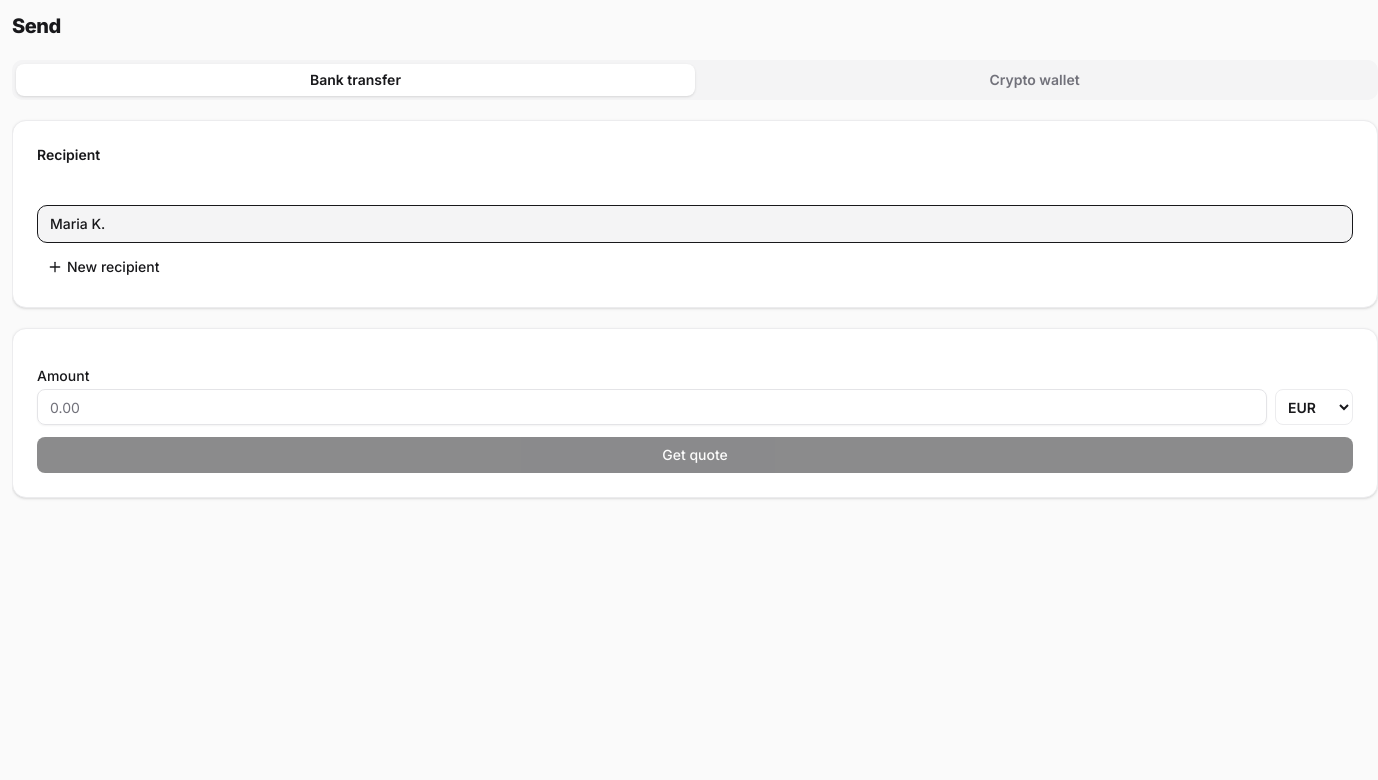
Test: Send › auto-selects the first recipient so quoting needs no extra click
The width and height of the screenshot is (1378, 780).
do NOT click a recipient — the first seeded one should already be selected
Type "50" into the field labelled "Amount" at (652, 407), box x1=37 y1=389 x2=1267 y2=425
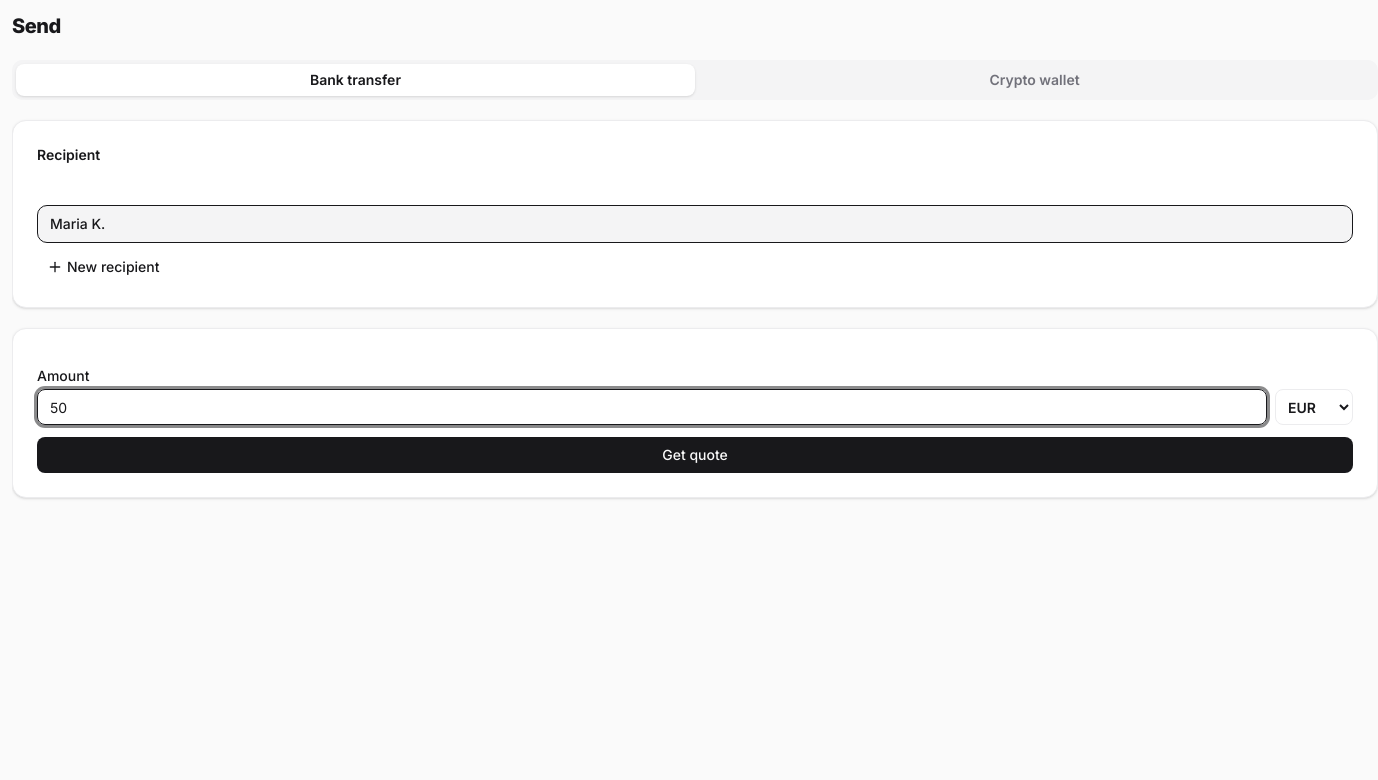
expect the button "Get quote" is enabled: met
Click the button "Get quote" at (695, 455), box x1=37 y1=437 x2=1353 y2=473
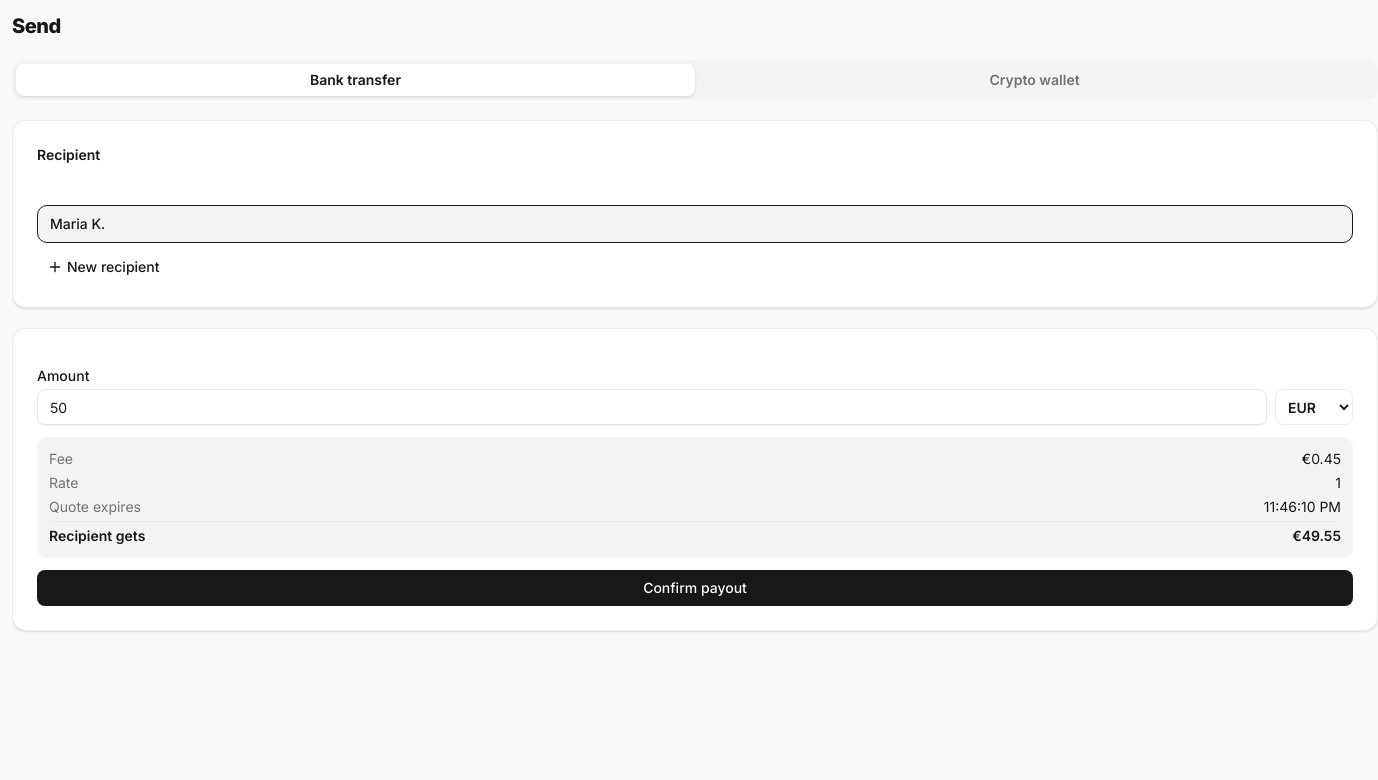
expect the text "Recipient gets" is shown: met, box x1=49 y1=526 x2=145 y2=546
